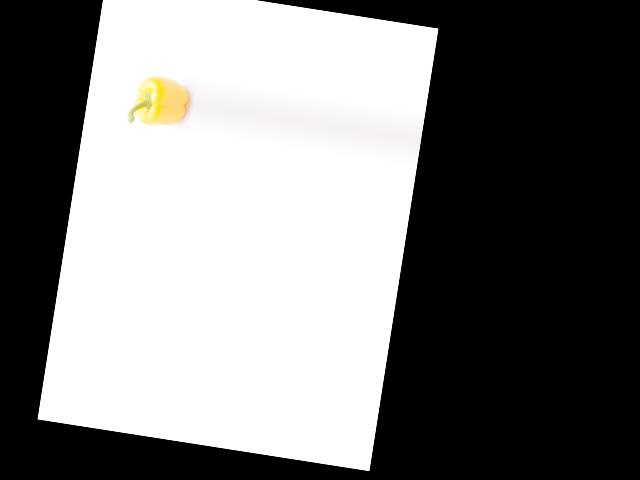bell_pepper: (128, 68, 192, 133)
